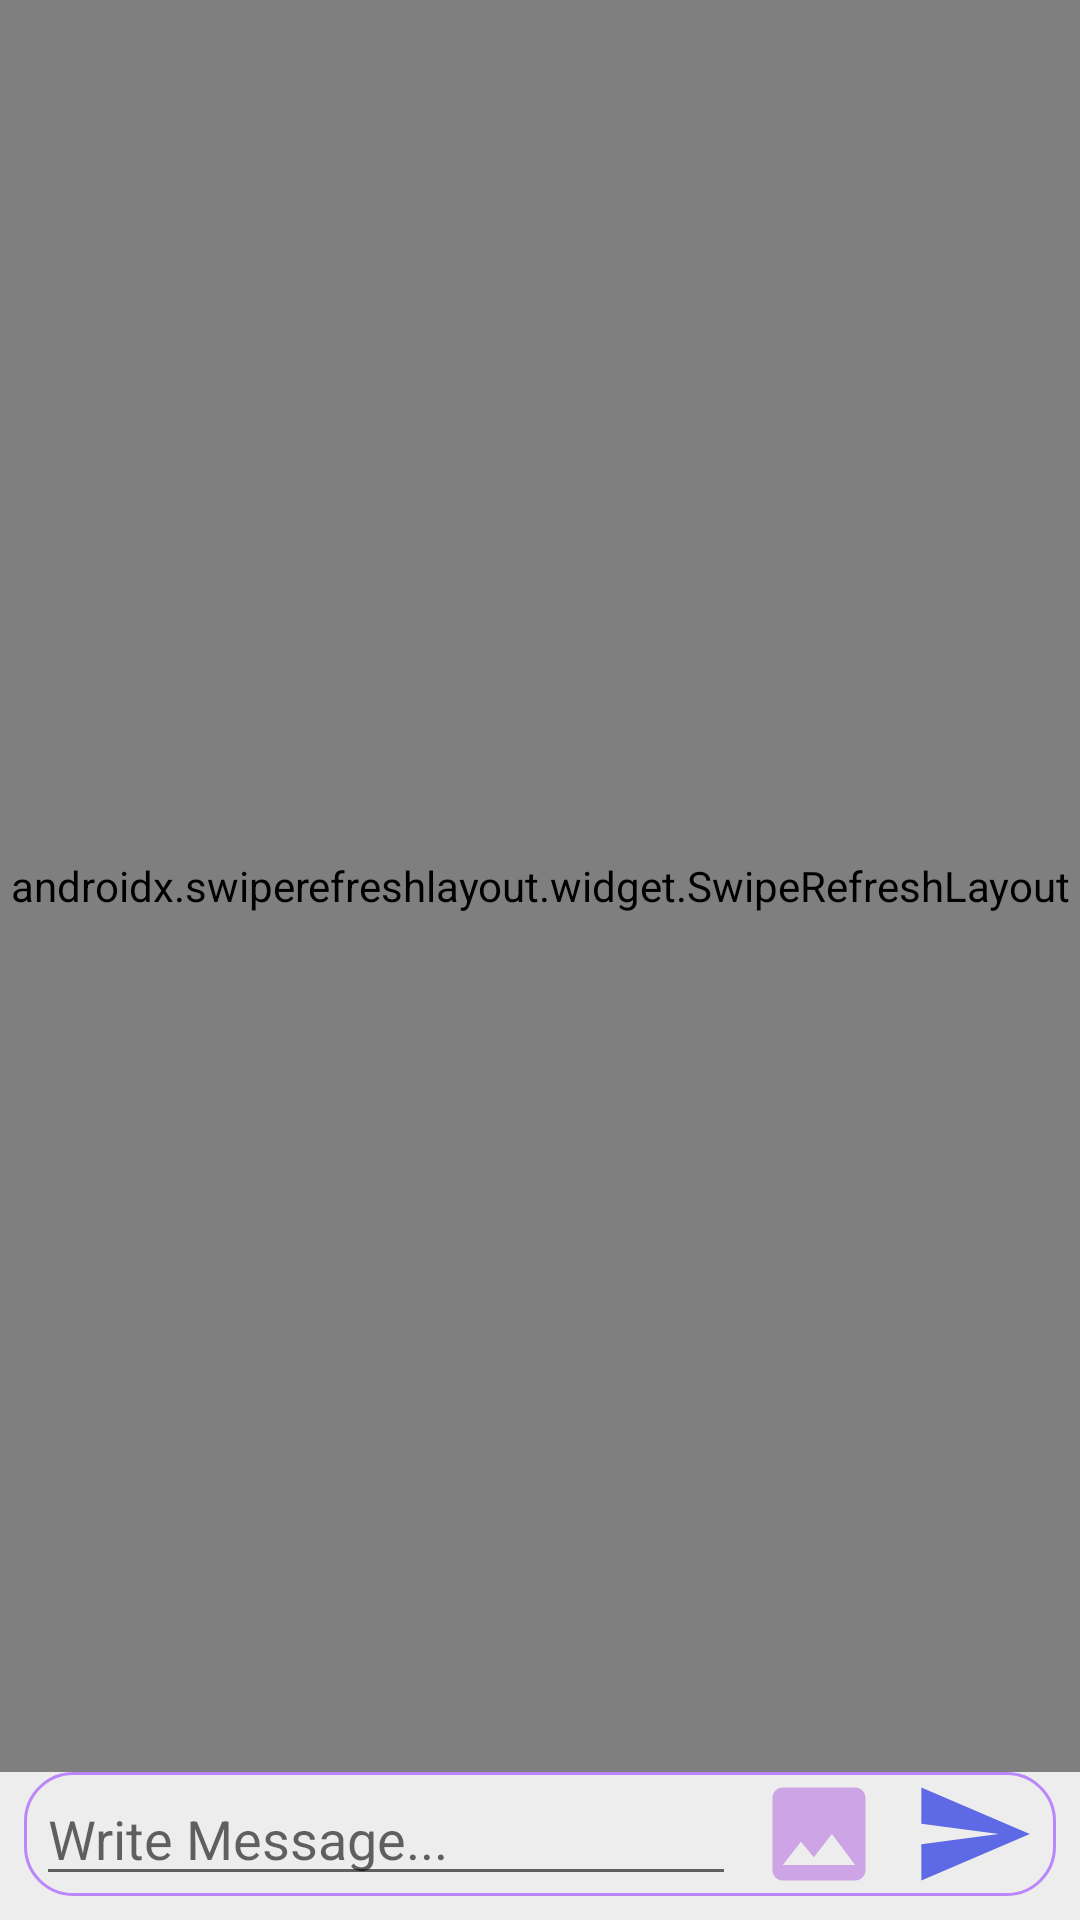

Point at icon controls on the screen. Image size 1080px x 1920px, points as (x,y).
attachment: (819,1834)
send meessage: (975,1834)
